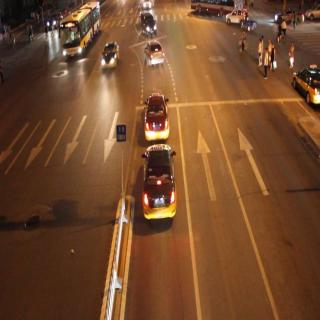BigCar: (58, 0, 102, 62)
Car: (140, 137, 179, 232), (136, 82, 173, 146), (291, 58, 320, 115), (97, 32, 122, 74), (141, 36, 168, 72), (133, 9, 162, 39), (226, 0, 248, 32)
